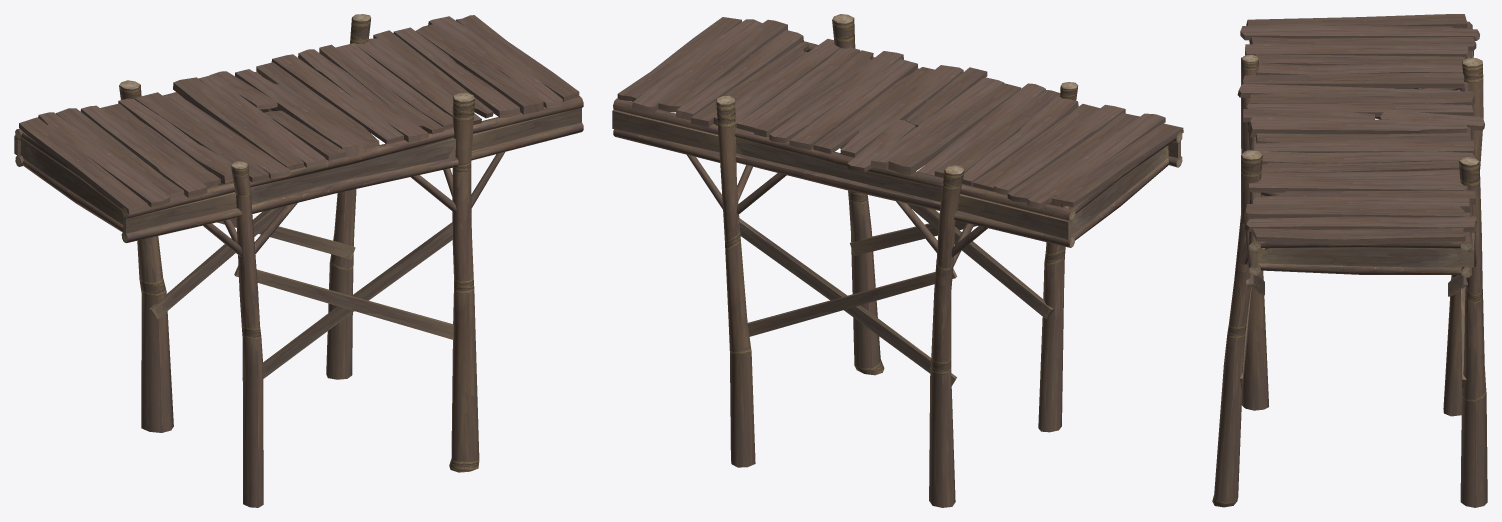
The model's file is Area_MdBuild_Wharf01.fbx.
3 renders of one model, left to right at view 1: azimuth 30°, elevation 25°; view 2: azimuth 150°, elevation 25°; view 3: azimuth 270°, elevation 25°, orthographic.
Parts seen in each view (by area): view 1: Area_MdBuild_Wharf01_01, Area_MdBuild_Wharf01_02; view 2: Area_MdBuild_Wharf01_01, Area_MdBuild_Wharf01_02; view 3: Area_MdBuild_Wharf01_01, Area_MdBuild_Wharf01_02.
Part boxes in pixels (box(x1,y1,x2,y2)): Area_MdBuild_Wharf01_01: box(14, 14, 583, 507); Area_MdBuild_Wharf01_02: box(149, 152, 504, 378); Area_MdBuild_Wharf01_01: box(612, 14, 1183, 507); Area_MdBuild_Wharf01_02: box(686, 145, 1060, 385); Area_MdBuild_Wharf01_01: box(1212, 14, 1487, 507); Area_MdBuild_Wharf01_02: box(1240, 143, 1476, 388).
Size of the model in its own units: 125 by 93.64 by 65.93.
2 materials, 2 textured.
